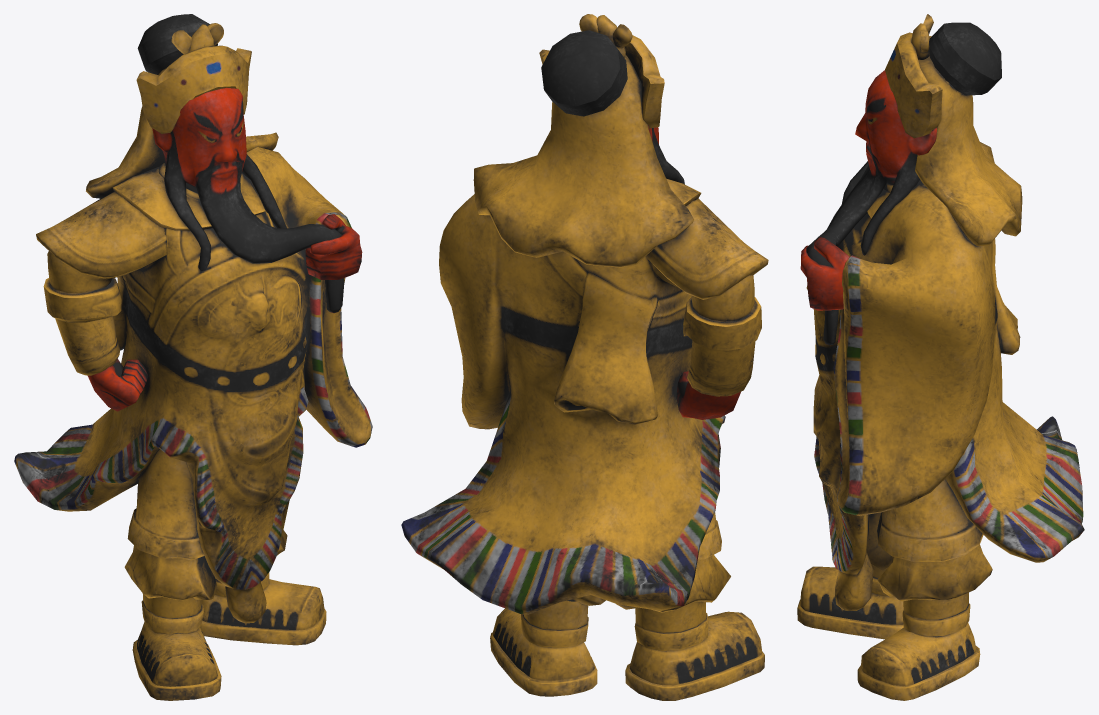
Rendered from M_GuanYu_Idol_01.FBX.
The picture shows the model from 3 angles, left to right: view 1: azimuth 30°, elevation 25°; view 2: azimuth 150°, elevation 25°; view 3: azimuth 270°, elevation 25°; orthographic projection. The views are drawn at different scales.
Visible parts, largest first — view 1: M_GuanYu_Idol_01; view 2: M_GuanYu_Idol_01; view 3: M_GuanYu_Idol_01.
Boxes of the visible parts, bbox=[...] form: M_GuanYu_Idol_01: bbox=[14, 14, 372, 700]; M_GuanYu_Idol_01: bbox=[401, 14, 768, 700]; M_GuanYu_Idol_01: bbox=[797, 14, 1084, 700].
Bounding box in the file's own units: 14.96 × 12.69 × 30.34.
